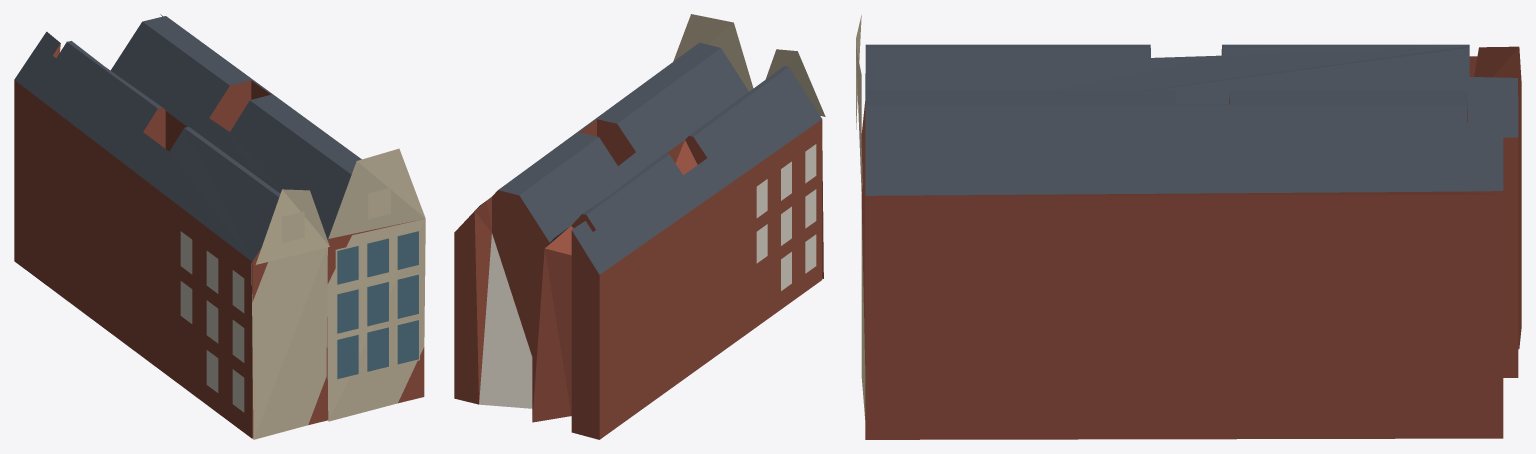
File: huis-marseille.lod2.glb
The picture shows the model from 3 angles, left to right: view 1: azimuth 30°, elevation 25°; view 2: azimuth 150°, elevation 25°; view 3: azimuth 270°, elevation 25°; orthographic projection. The views are drawn at different scales.
Parts seen in each view (by area): view 1: lod2; view 2: lod2; view 3: lod2.
Part boxes in pixels (box(x1,y1,x2,y2)): lod2: box(14, 14, 425, 439); lod2: box(454, 14, 825, 439); lod2: box(856, 15, 1521, 439).
Size of the model in its own units: 13.1 by 18.55 by 32.28.
